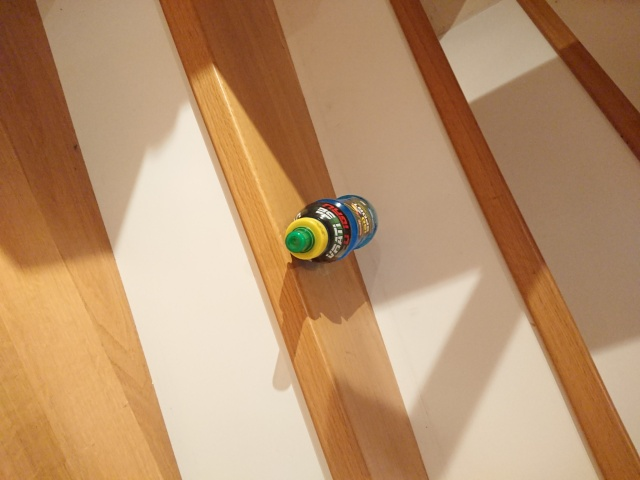Vindi Iso Sport Forest Strawberries 500mL: (282, 192, 379, 265)
